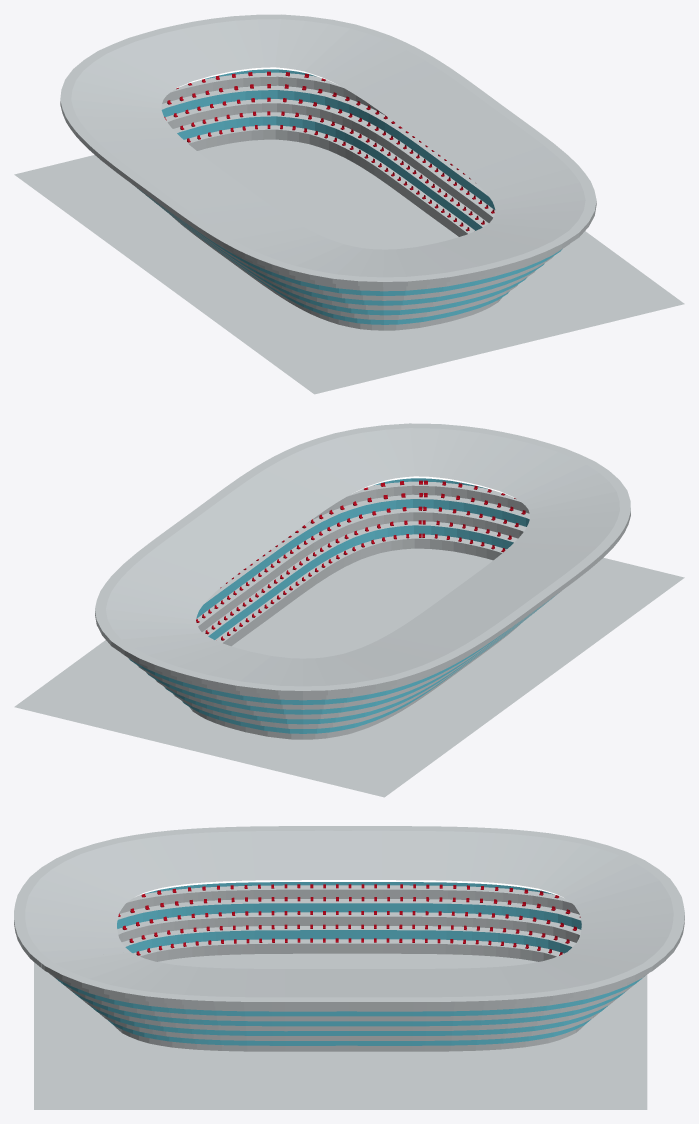
Rendered from nascar_circuit_stadium.glb.
3 renders of one model, top to bottom at view 1: azimuth 30°, elevation 25°; view 2: azimuth 150°, elevation 25°; view 3: azimuth 270°, elevation 25°, orthographic. The views are drawn at different scales.
Visible parts, largest first — view 1: piso, estadium.004, estadium.009, estadium.003, estadium.008, estadium.005, estadium.006, estadium.001, estadium.002, estadium.007; view 2: piso, estadium.008, estadium.003, estadium.009, estadium.004, estadium.006, estadium.005, estadium.007, estadium.002, estadium.001; view 3: piso, estadium.009, estadium.003, estadium.004, estadium.002, estadium.001, estadium.008, estadium.005, estadium.006, estadium.007.
Boxes of the visible parts, box(x1,y1,x2,y2) form: piso: box(14, 139, 684, 394); estadium.004: box(160, 14, 441, 170); estadium.009: box(191, 210, 484, 330); estadium.003: box(60, 29, 211, 153); estadium.008: box(438, 167, 596, 323); estadium.005: box(359, 63, 496, 206); estadium.006: box(409, 101, 546, 236); estadium.001: box(139, 173, 276, 288); estadium.002: box(88, 137, 226, 252); estadium.007: box(459, 138, 579, 233); piso: box(14, 548, 684, 797); estadium.008: box(275, 423, 533, 559); estadium.003: box(201, 632, 482, 739); estadium.009: box(481, 439, 630, 638); estadium.004: box(95, 558, 250, 732); estadium.006: box(182, 482, 318, 624); estadium.005: box(130, 519, 268, 646); estadium.007: box(233, 453, 363, 588); estadium.002: box(392, 597, 531, 711); estadium.001: box(444, 560, 581, 675); piso: box(34, 953, 647, 1109); estadium.009: box(14, 826, 267, 961); estadium.003: box(470, 827, 684, 961); estadium.004: box(462, 913, 684, 1050); estadium.002: box(369, 826, 480, 954); estadium.001: box(265, 826, 369, 953); estadium.008: box(14, 911, 186, 1047); estadium.005: box(361, 968, 469, 1051); estadium.006: box(258, 969, 361, 1051); estadium.007: box(167, 966, 260, 1051).
Bounding box in the file's own units: 262 × 60.51 × 391.
